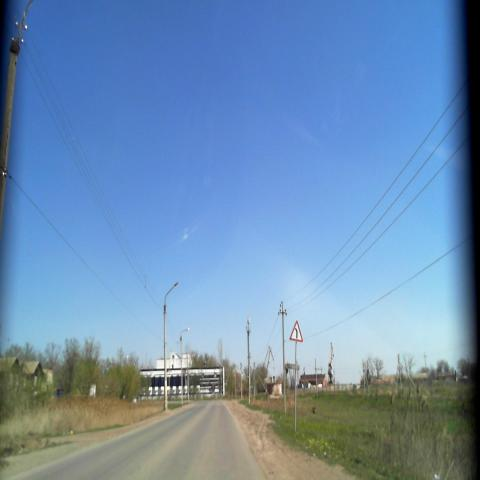1_11_1: (290, 318, 304, 344)
